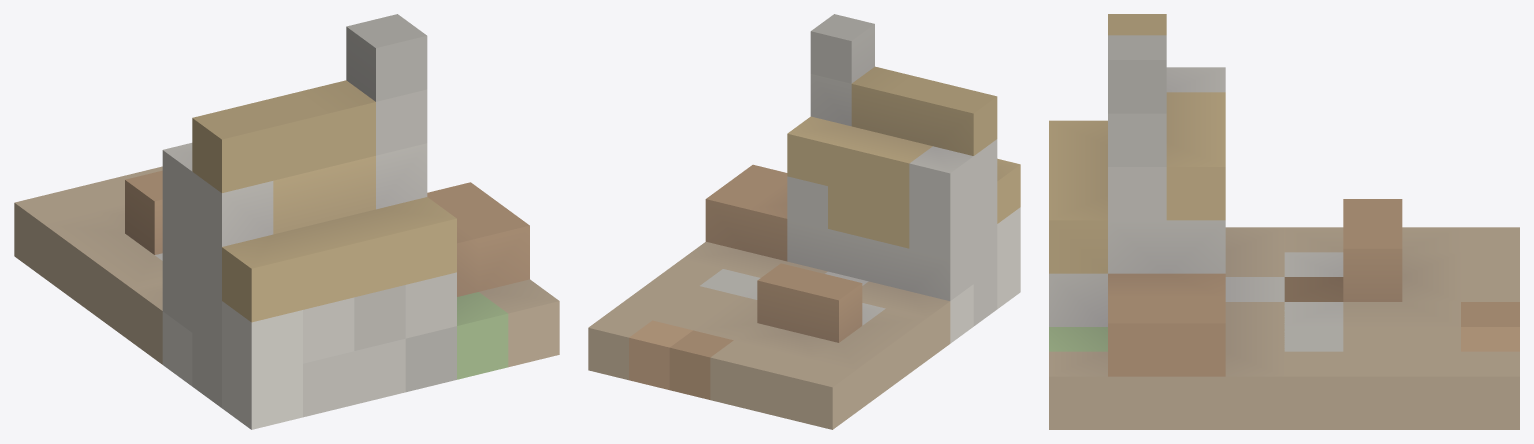
The model's file is tannery.lite.glb.
3 views of the same model, side by side, from view 1: azimuth 30°, elevation 25°; view 2: azimuth 150°, elevation 25°; view 3: azimuth 270°, elevation 25° (orthographic). The views are drawn at different scales.
Visible parts, largest first — view 1: tannery; view 2: tannery; view 3: tannery.
Boxes of the visible parts, x1,y1,x2,y2 form: tannery: (14,14,559,429); tannery: (588,14,1020,429); tannery: (1049,14,1519,429).
Bounding box in the file's own units: 3 × 3 × 4.
